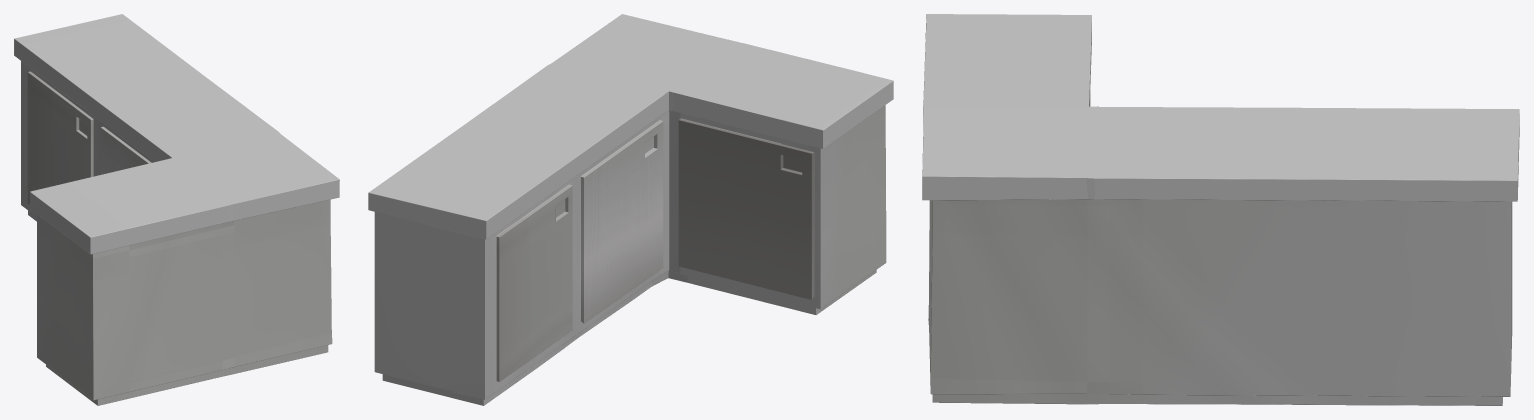
The model's file is plan_de_travail_1.fbx.
The picture shows the model from 3 angles, left to right: view 1: azimuth 30°, elevation 25°; view 2: azimuth 150°, elevation 25°; view 3: azimuth 270°, elevation 25°; orthographic projection. The views are drawn at different scales.
Parts seen in each view (by area): view 1: plan_de_travail:plan_de_travail; view 2: plan_de_travail:plan_de_travail; view 3: plan_de_travail:plan_de_travail.
Boxes of the visible parts, bbox=[...] form: plan_de_travail:plan_de_travail: bbox=[14, 14, 339, 405]; plan_de_travail:plan_de_travail: bbox=[368, 14, 893, 405]; plan_de_travail:plan_de_travail: bbox=[922, 14, 1519, 405].
Size of the model in its own units: 230 by 151 by 351.
